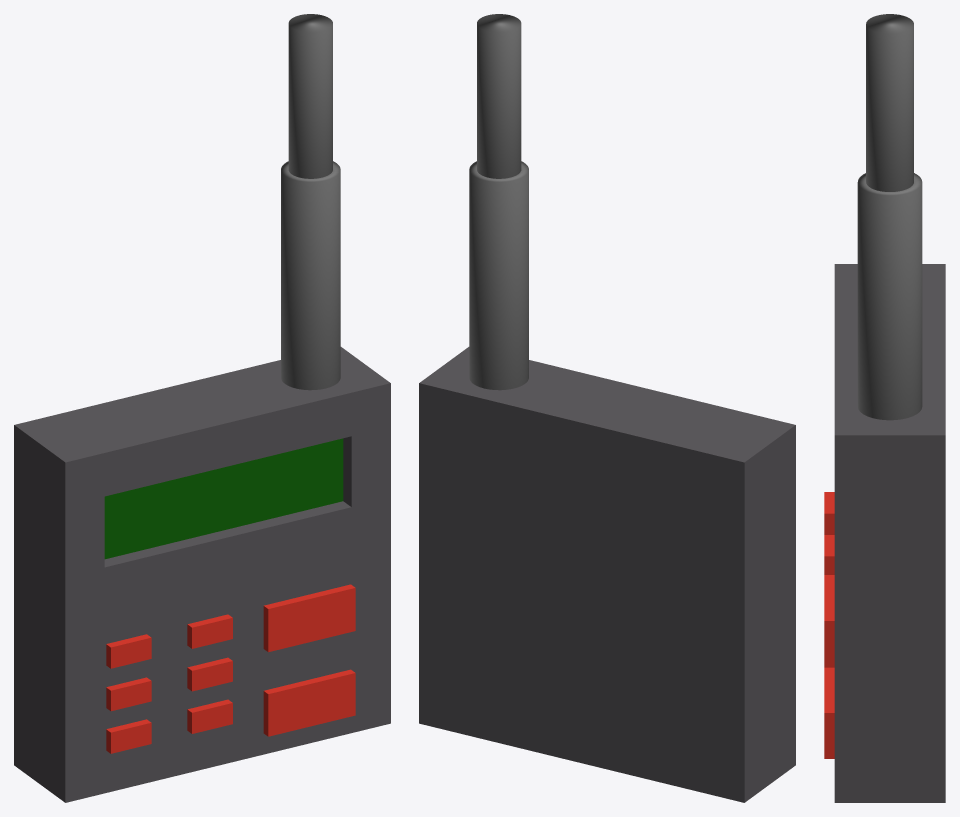
Rendered from Remote.fbx.
The picture shows the model from 3 angles, left to right: view 1: azimuth 30°, elevation 25°; view 2: azimuth 150°, elevation 25°; view 3: azimuth 270°, elevation 25°; orthographic projection. The views are drawn at different scales.
Parts seen in each view (by area): view 1: Cube, Cylinder; view 2: Cube, Cylinder; view 3: Cube, Cylinder.
Part boxes in pixels (x1,y1,x2,y2): Cube: [14, 347, 390, 802]; Cylinder: [281, 14, 340, 390]; Cube: [419, 347, 795, 802]; Cylinder: [469, 14, 528, 390]; Cube: [824, 264, 945, 802]; Cylinder: [857, 14, 922, 420].
Size of the model in its own units: 200 by 408 by 59.66.
